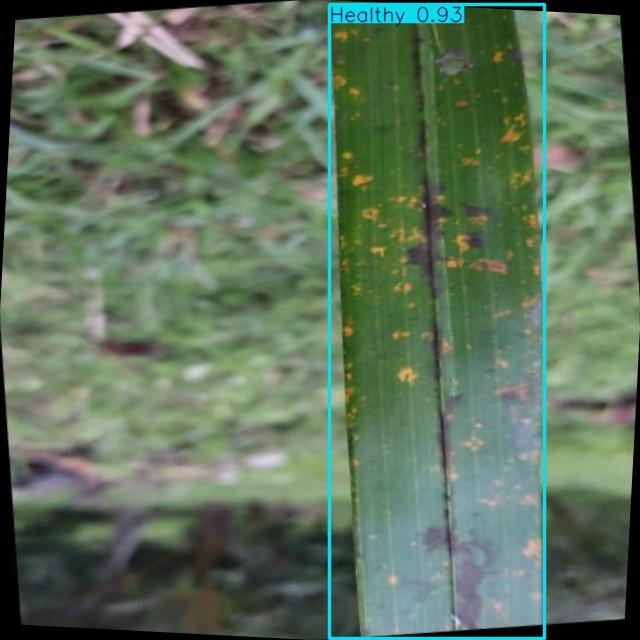Healthy: (329, 4, 544, 639)
